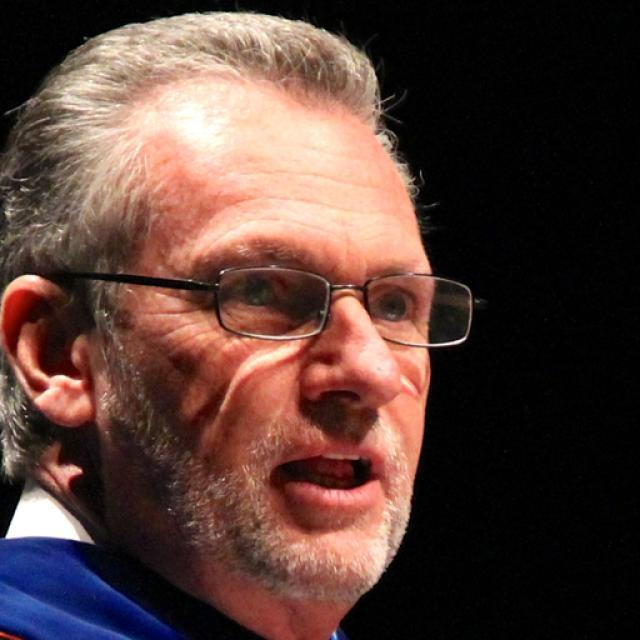surprise: (94, 75, 438, 602)
